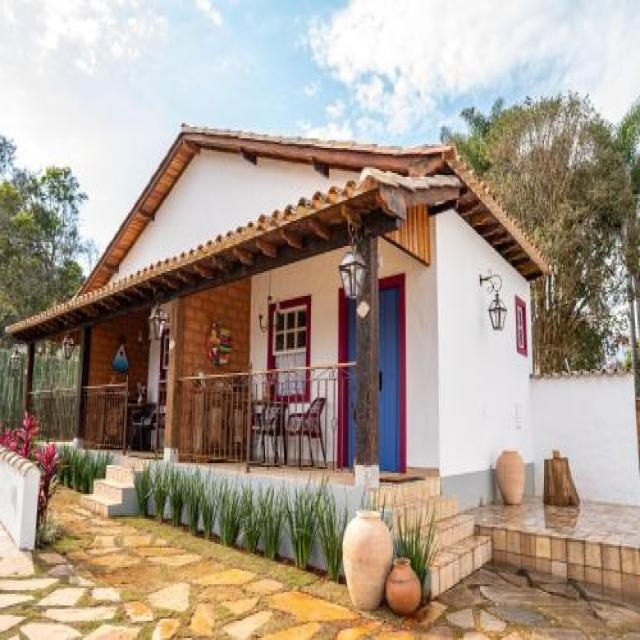Fachada: (8, 125, 640, 513)
